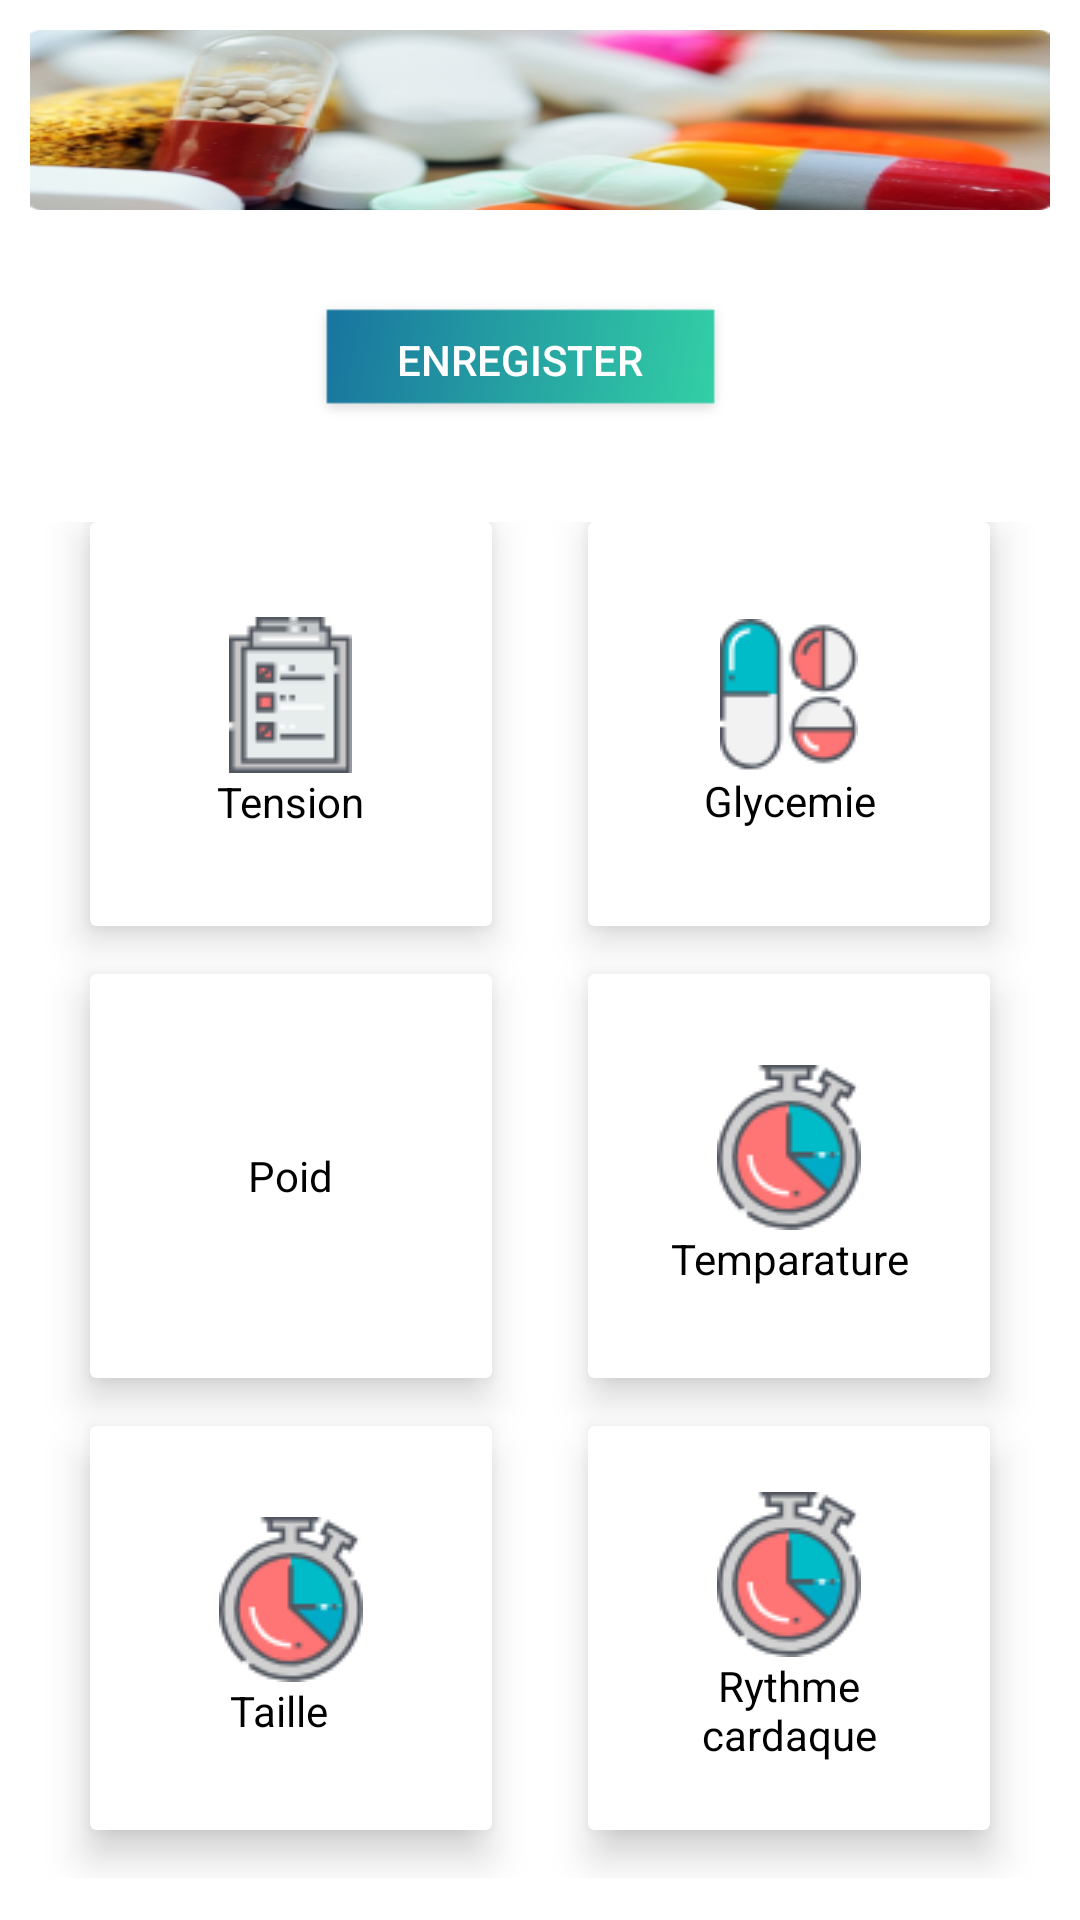

Where icons sit on this 1080 × 1920 app screen, as (x1, y1, x2, y2):
medicineaz: (720, 619, 858, 770)
presc: (229, 617, 352, 773)
stopclock: (717, 1065, 861, 1230), (717, 1492, 861, 1657), (219, 1517, 363, 1682)
